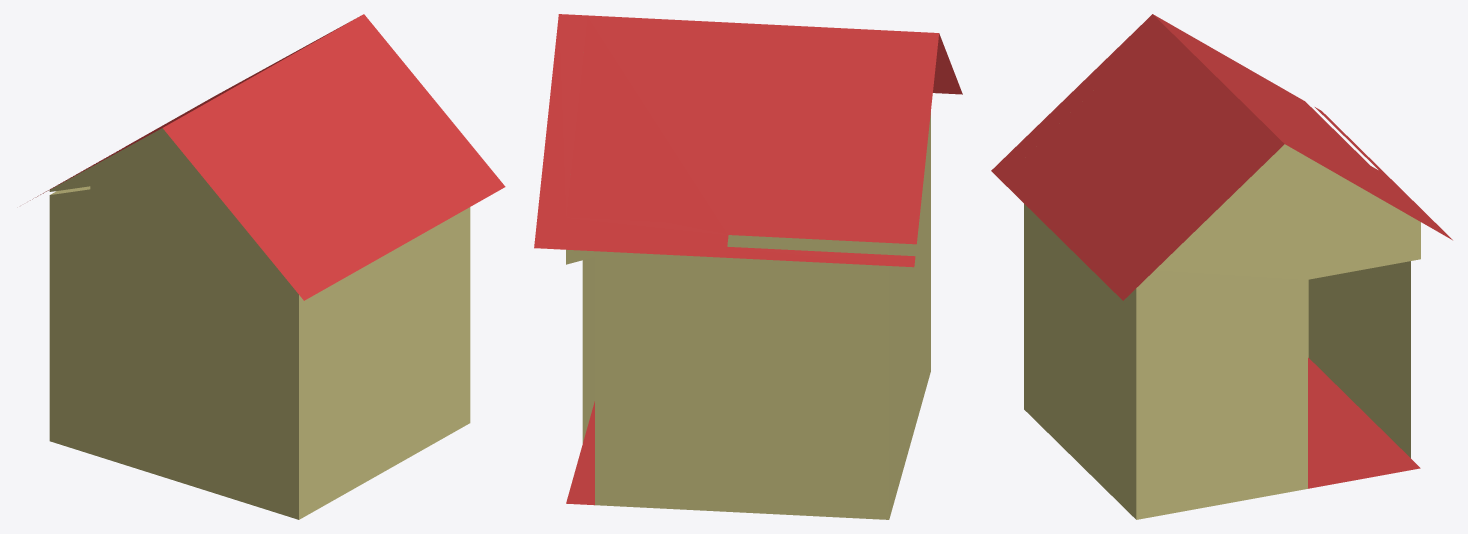
The picture shows the model from 3 angles, left to right: view 1: azimuth 30°, elevation 25°; view 2: azimuth 150°, elevation 25°; view 3: azimuth 270°, elevation 25°; orthographic projection. The views are drawn at different scales.
Size of the model in its own units: 13.43 by 13.82 by 11.88.
